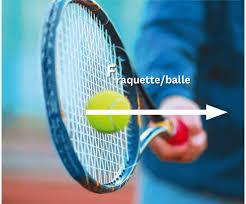ball_tennis: (85, 90, 131, 133)
